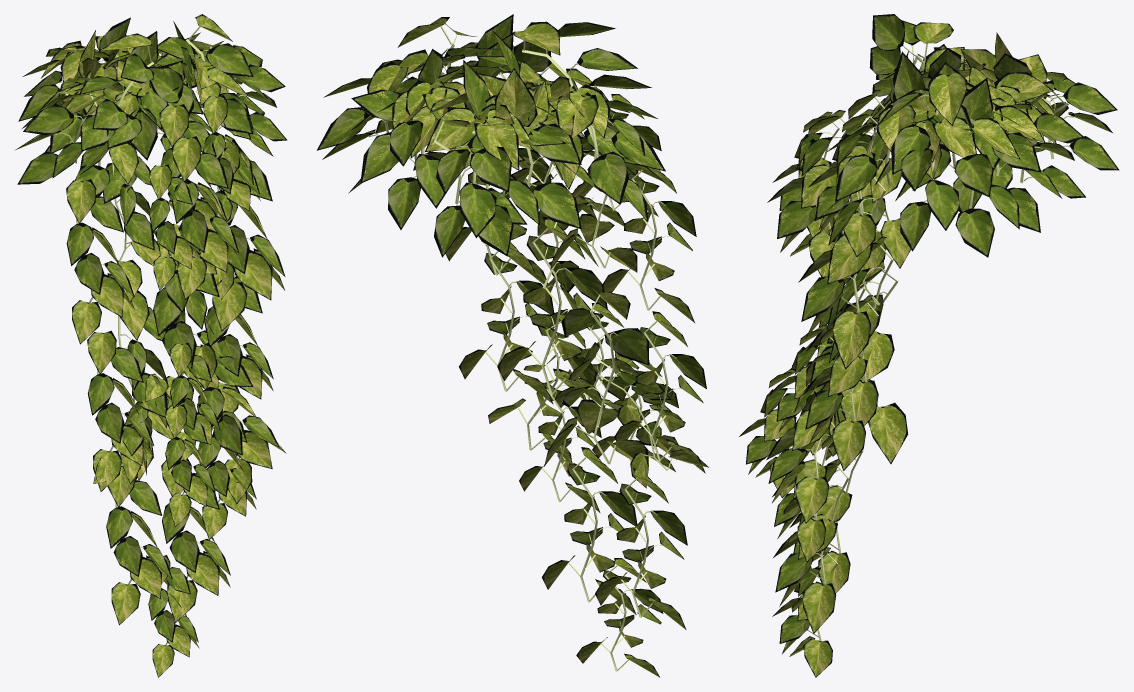
File: railing-plant.glb
3 views of the same model, side by side, from view 1: azimuth 30°, elevation 25°; view 2: azimuth 150°, elevation 25°; view 3: azimuth 270°, elevation 25° (orthographic). The views are drawn at different scales.
Visible parts, largest first — view 1: Object_13, Object_15, Object_43; view 2: Object_13, Object_15, Object_43; view 3: Object_13, Object_15, Object_43.
Part boxes in pixels (x1,y1,x2,y2): Object_13: [15, 17, 287, 642]; Object_15: [41, 14, 286, 677]; Object_43: [55, 26, 250, 645]; Object_13: [317, 14, 706, 628]; Object_15: [367, 17, 708, 677]; Object_43: [369, 26, 681, 671]; Object_13: [739, 14, 1119, 643]; Object_15: [748, 22, 1067, 677]; Object_43: [778, 43, 1074, 640].
Bounding box in the file's own units: 0.3622 × 0.7715 × 0.4094.
Materials: 3 (2 with a texture image).
